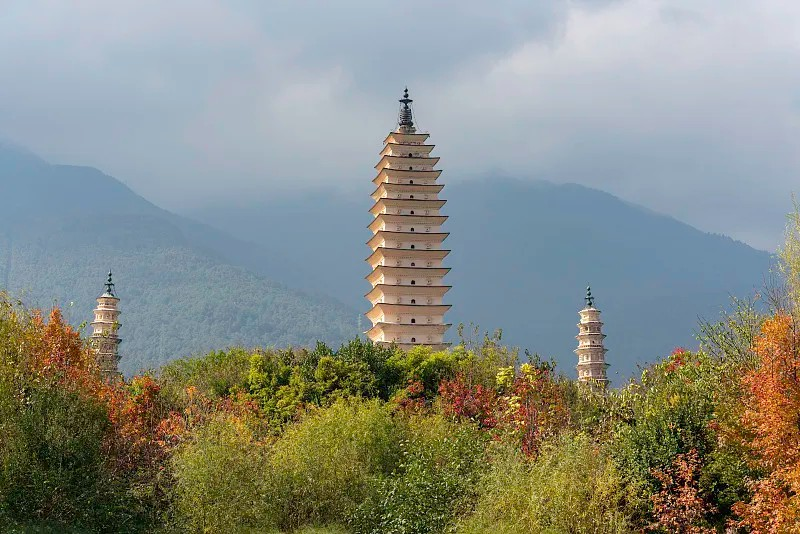ThreePagoda: (363, 87, 453, 349)
